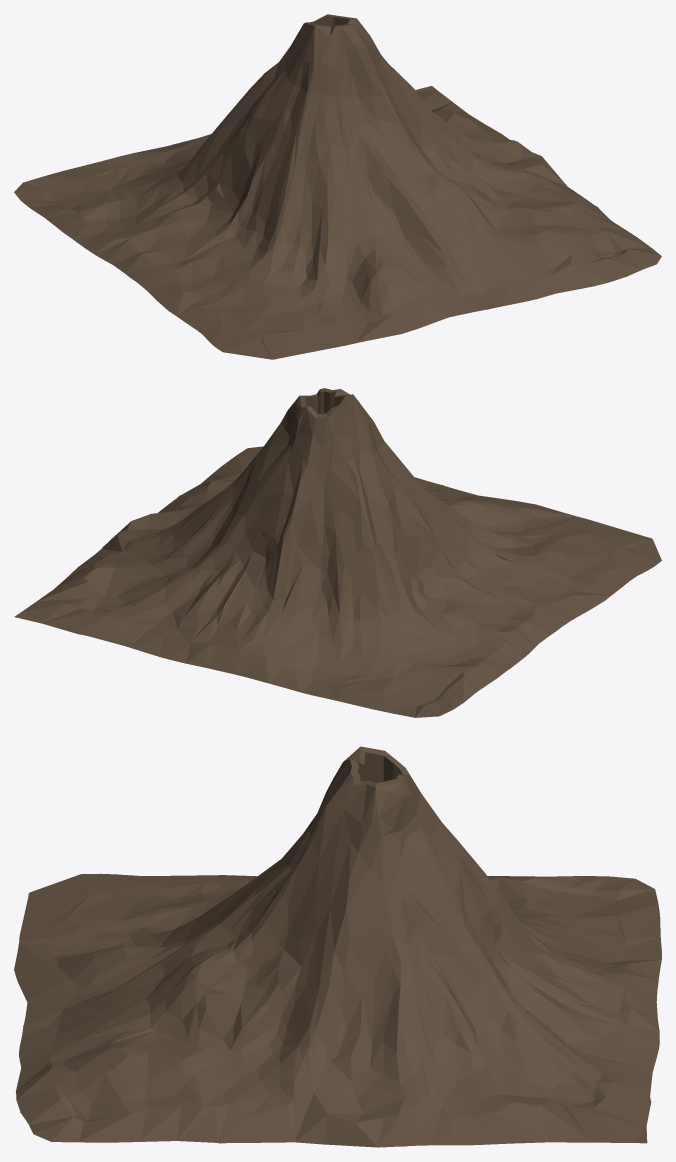
3 views of the same model, one above another, from view 1: azimuth 30°, elevation 25°; view 2: azimuth 150°, elevation 25°; view 3: azimuth 270°, elevation 25° (orthographic). The views are drawn at different scales.
Visible parts, largest first — view 1: 火山; view 2: 火山; view 3: 火山.
Part boxes in pixels (left/top/right/bottom): 火山: left=14, top=14, right=661, bottom=359; 火山: left=14, top=388, right=661, bottom=717; 火山: left=14, top=746, right=661, bottom=1147.
Size of the model in its own units: 586 by 256 by 586.
